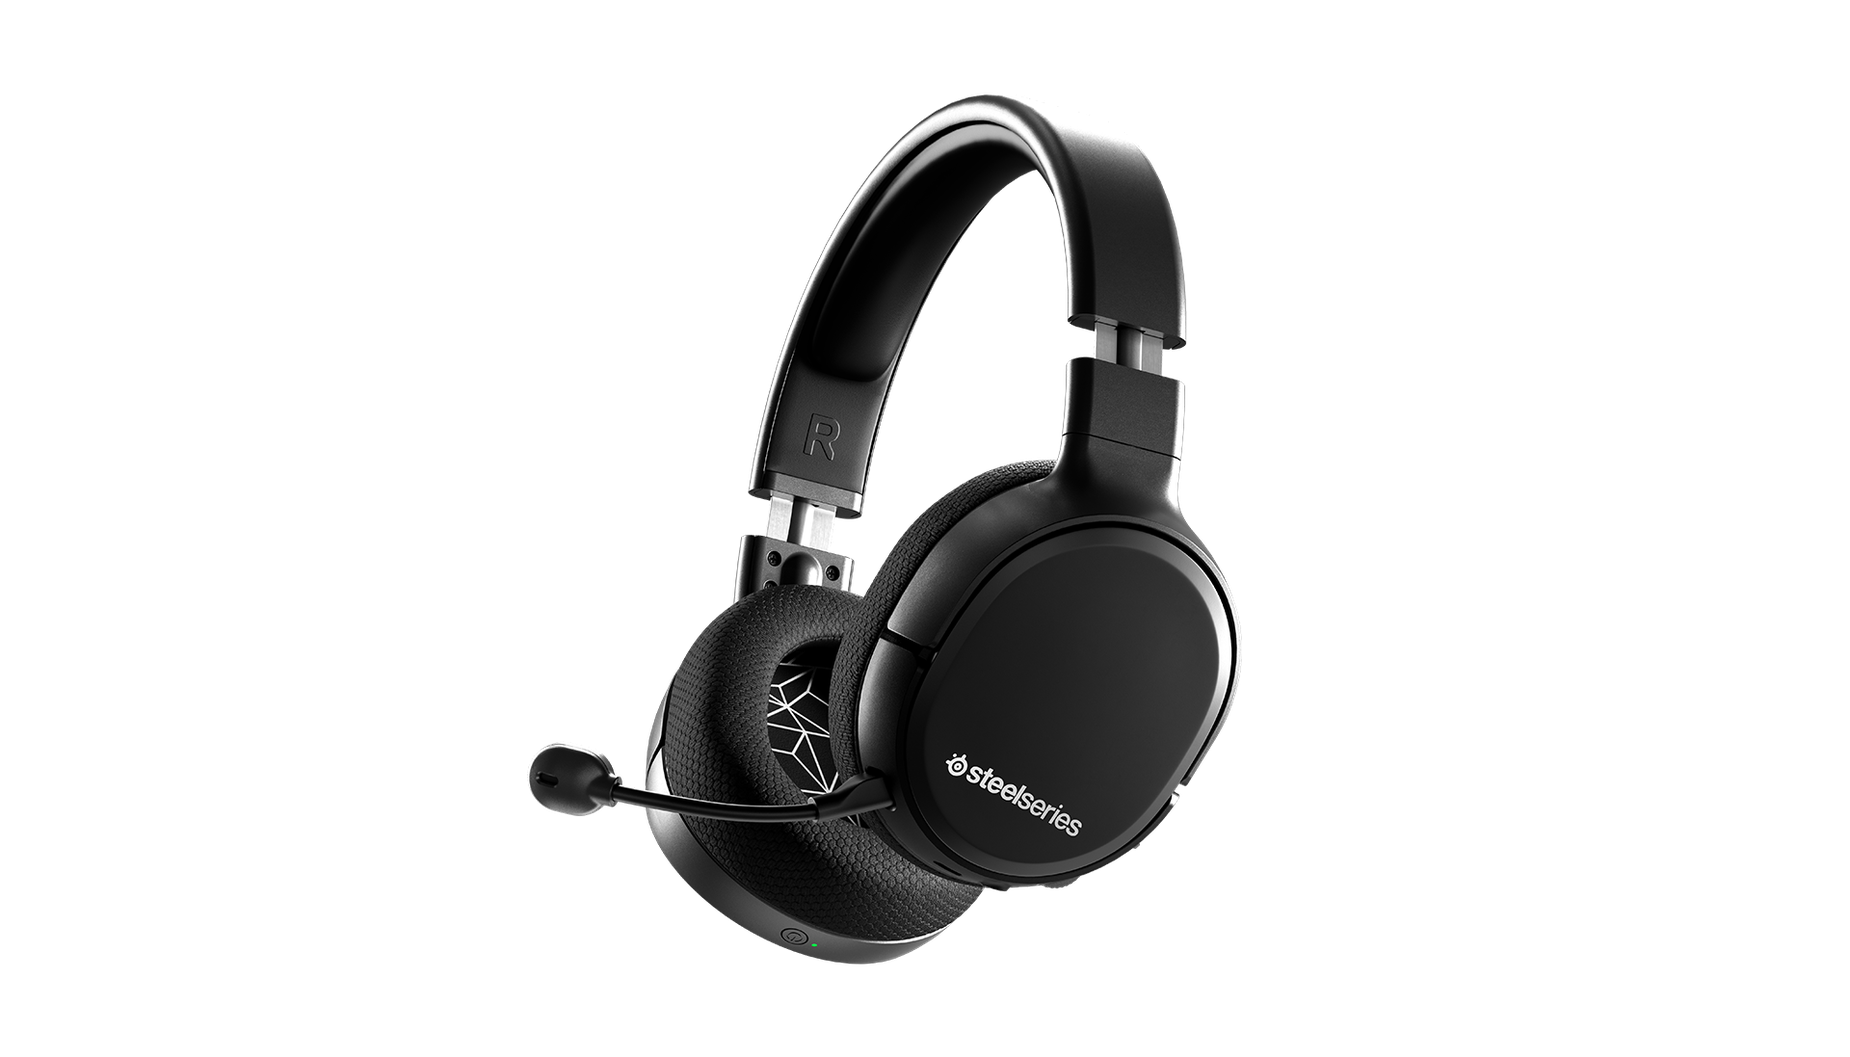Headset: (386, 33, 1410, 1018)
